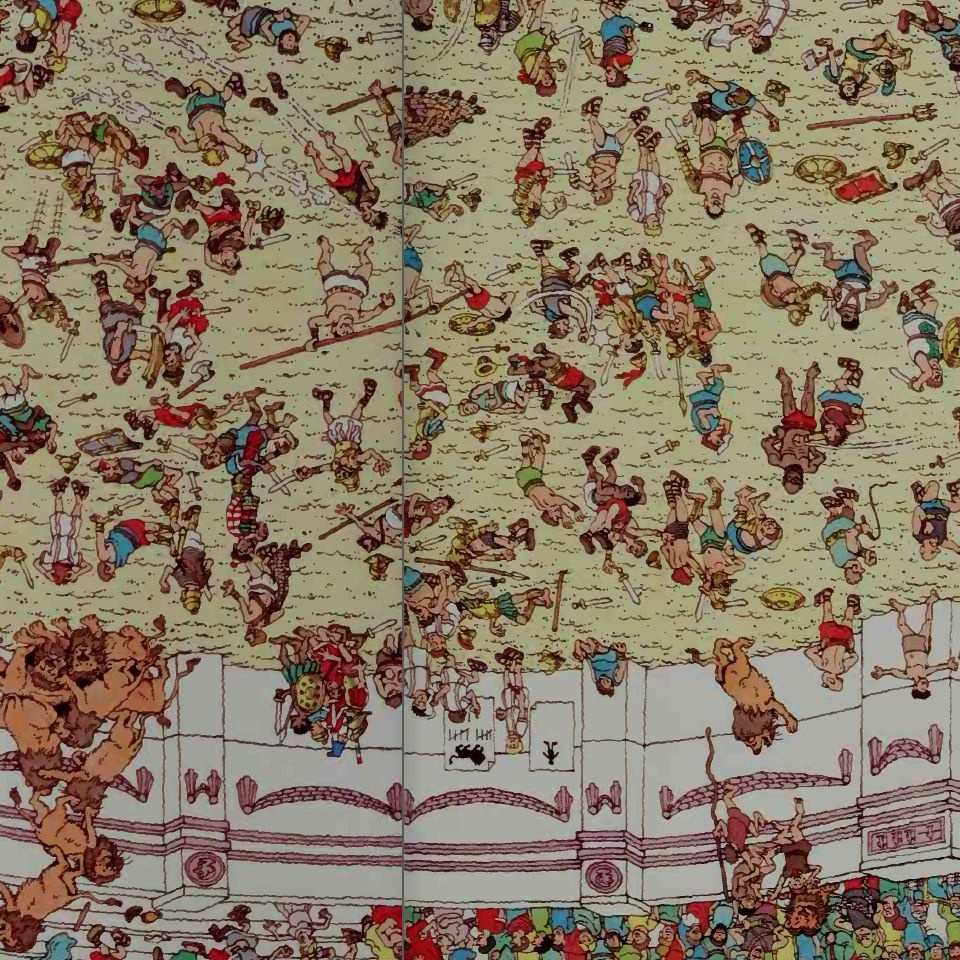waldo: (225, 491, 267, 568)
